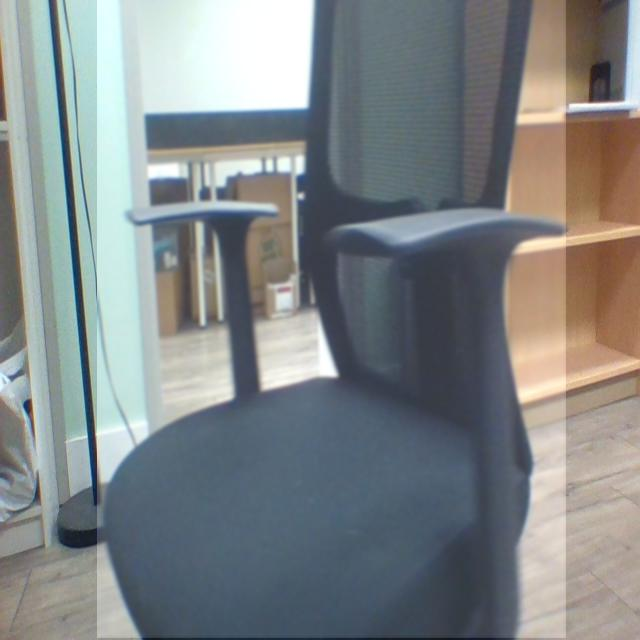black-chair: (97, 0, 567, 639)
